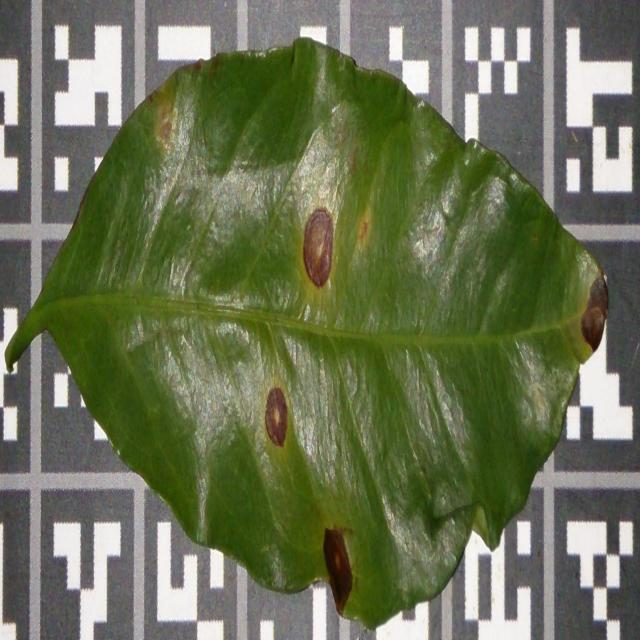Enfermedad-Mancha-de-hierro: (4, 37, 609, 632)
